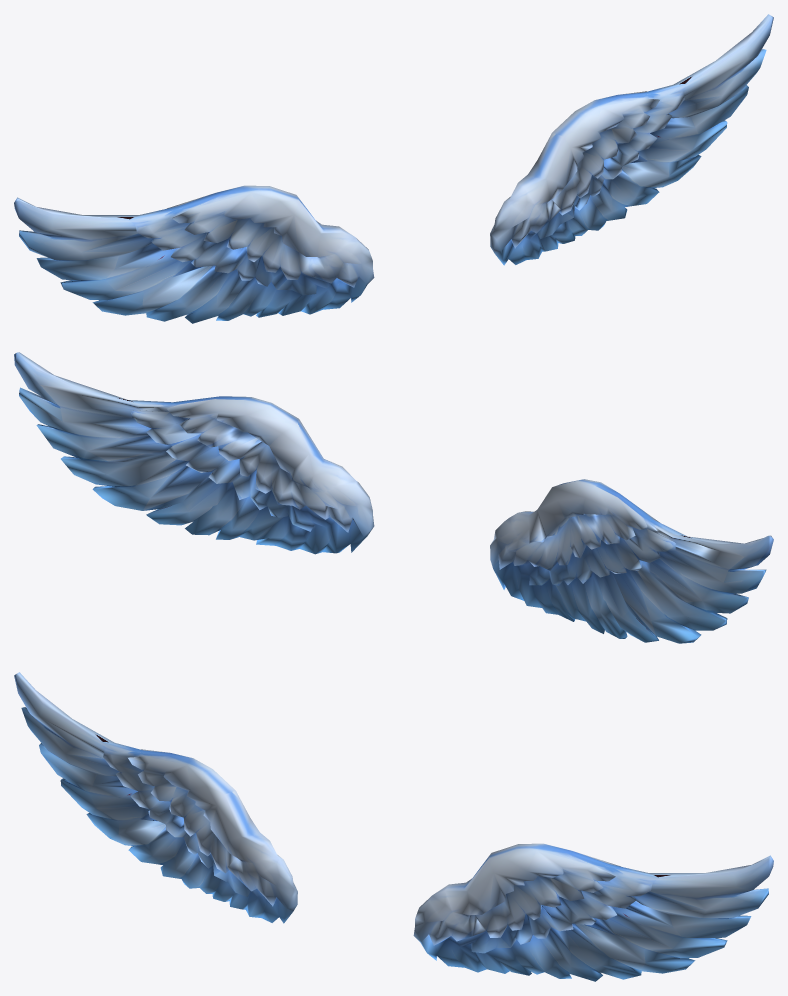
Rendered from CloudPegasusWear.fbx.
The picture shows the model from 3 angles, top to bottom: view 1: azimuth 30°, elevation 25°; view 2: azimuth 150°, elevation 25°; view 3: azimuth 330°, elevation 25°; orthographic projection.
Visible parts, largest first — view 1: WingR, WingL; view 2: WingL, WingR; view 3: WingL, WingR.
Boxes of the visible parts, <box> form: WingR: <box>14,185,374,323</box>; WingL: <box>490,14,773,265</box>; WingL: <box>14,352,374,554</box>; WingR: <box>490,479,773,643</box>; WingL: <box>413,843,773,981</box>; WingR: <box>14,672,297,923</box>.
Bounding box in the file's own units: 1.86 × 0.3704 × 0.1954.
1 material, 1 textured.
